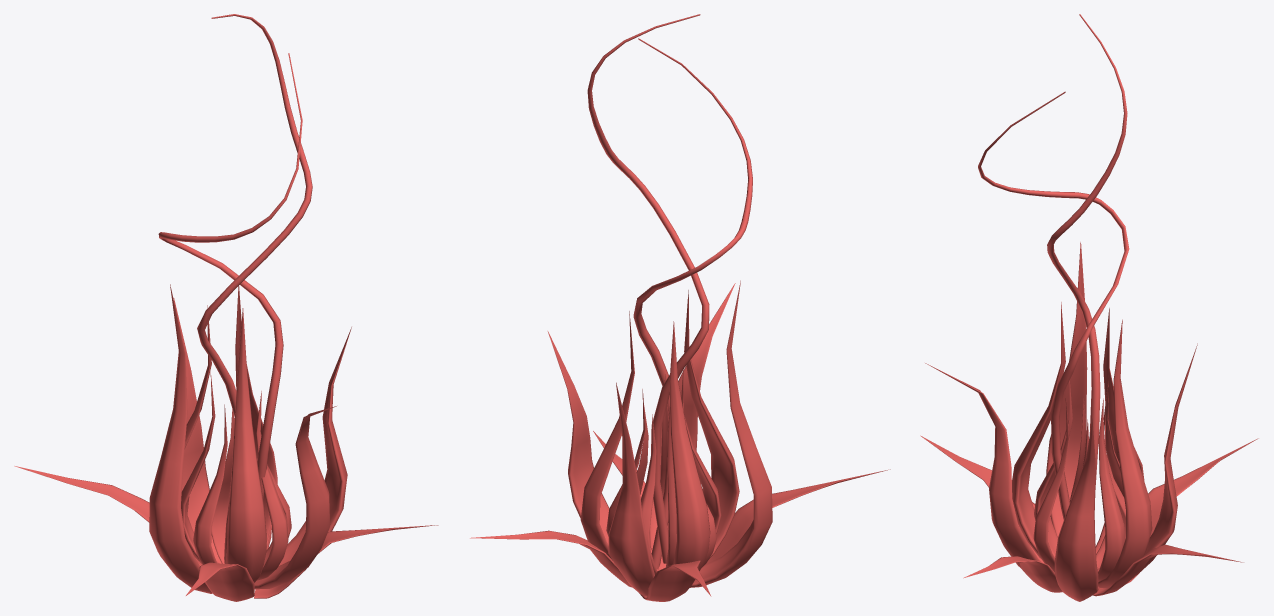
The model's file is plant2.fbx.
3 views of the same model, side by side, from view 1: azimuth 30°, elevation 25°; view 2: azimuth 150°, elevation 25°; view 3: azimuth 270°, elevation 25° (orthographic). The views are drawn at different scales.
Visible parts, largest first — view 1: plant2; view 2: plant2; view 3: plant2.
Boxes of the visible parts, left/top/right/bottom form: plant2: left=14, top=14, right=438, bottom=601; plant2: left=470, top=14, right=890, bottom=601; plant2: left=920, top=14, right=1258, bottom=601.
Size of the model in its own units: 1.49 by 2.98 by 1.64.
